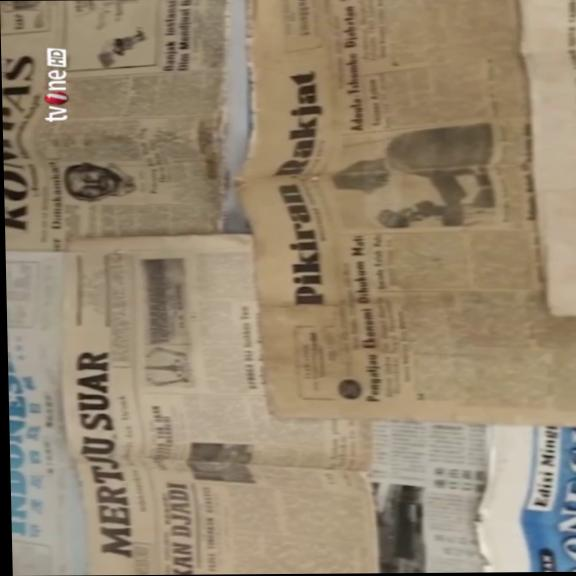Kertas: (230, 8, 576, 425), (51, 247, 389, 574), (3, 3, 122, 565), (0, 2, 249, 250), (168, 464, 374, 574)
